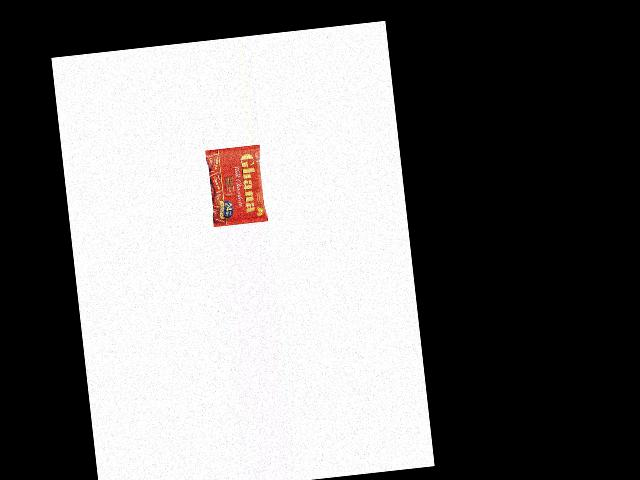chocolate: (203, 146, 266, 228)
